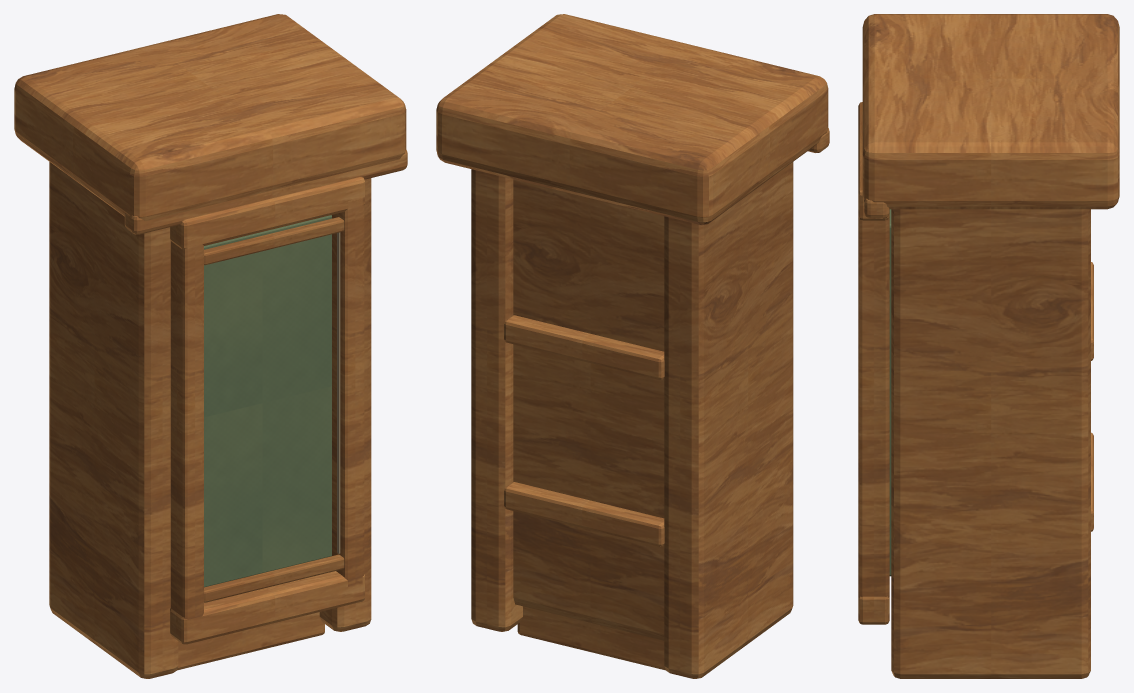
The model's file is WC_CAFE_Counter_Short_A.glb.
3 views of the same model, side by side, from view 1: azimuth 30°, elevation 25°; view 2: azimuth 150°, elevation 25°; view 3: azimuth 270°, elevation 25° (orthographic). The views are drawn at different scales.
Visible parts, largest first — view 1: WC_CAFE_Counter_Short_A_PolishedRenderMesh; view 2: WC_CAFE_Counter_Short_A_PolishedRenderMesh; view 3: WC_CAFE_Counter_Short_A_PolishedRenderMesh.
Part boxes in pixels (x1,y1,x2,y2): WC_CAFE_Counter_Short_A_PolishedRenderMesh: (14,14,407,678); WC_CAFE_Counter_Short_A_PolishedRenderMesh: (436,14,829,678); WC_CAFE_Counter_Short_A_PolishedRenderMesh: (858,14,1119,678).
Bounding box in the file's own units: 0.57 × 1.08 × 0.4575.
5 materials, 4 textured.
